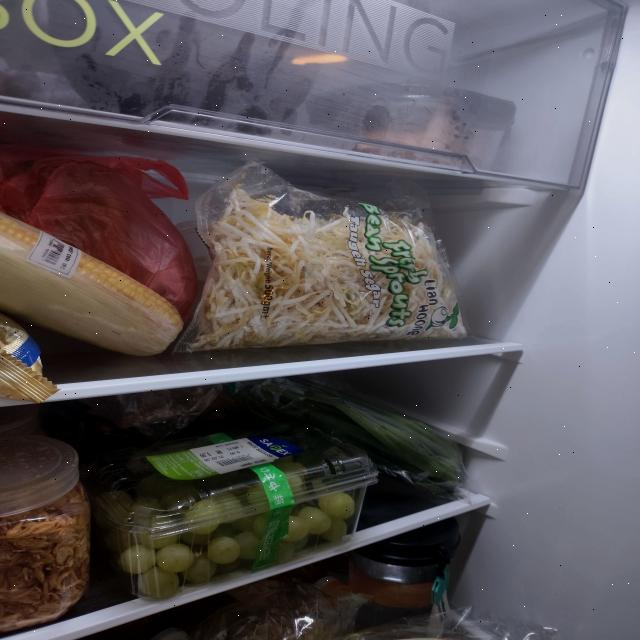bean_sprouts: (185, 182, 467, 354)
corn: (0, 212, 185, 357)
grape: (92, 453, 356, 598)
leafy_greens: (225, 375, 466, 496)
unknown_bag: (0, 145, 200, 321)
